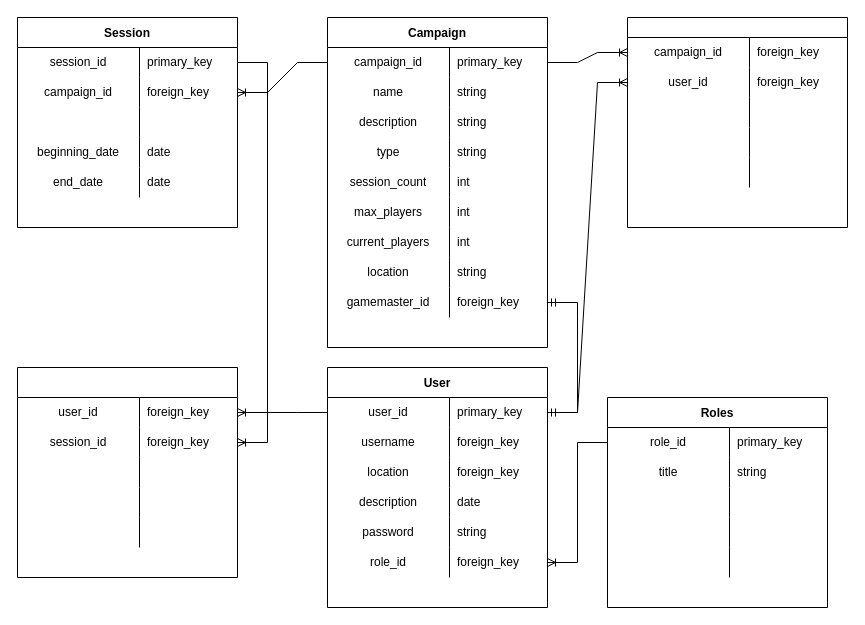
Some shapes in this 865 by 625 pixel diagram are drawn without their labels. Each missing label, with the box of its shape:
Campaign-User: (626, 16, 848, 228)
Session-User: (16, 366, 238, 578)
